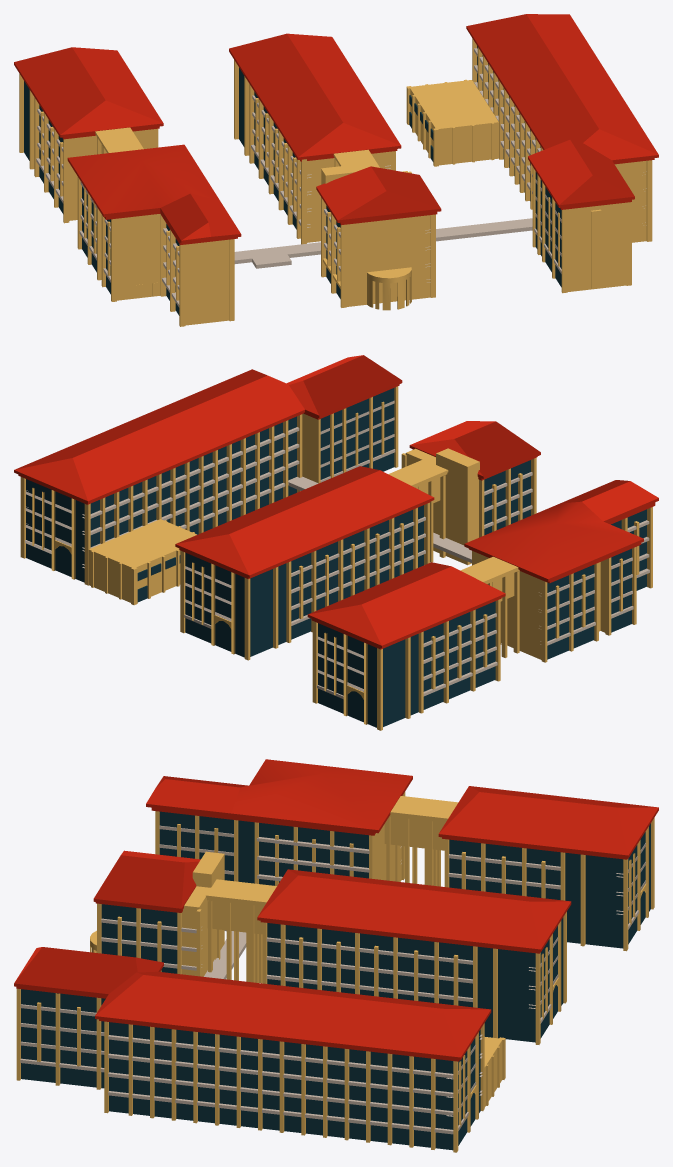
The model's file is GKL.FBX.
The picture shows the model from 3 angles, top to bottom: view 1: azimuth 30°, elevation 25°; view 2: azimuth 150°, elevation 25°; view 3: azimuth 270°, elevation 25°; orthographic projection. The views are drawn at different scales.
Visible parts, largest first — view 1: GKL01, GKL00, GKL02, GKL03; view 2: GKL01, GKL00, GKL03, GKL02; view 3: GKL01, GKL03, GKL00, GKL02.
Part boxes in pixels (left/top/right/bottom): GKL01: left=14, top=14, right=658, bottom=244; GKL00: left=19, top=38, right=652, bottom=326; GKL02: left=36, top=48, right=646, bottom=307; GKL03: left=24, top=46, right=561, bottom=315; GKL01: left=14, top=355, right=658, bottom=649; GKL00: left=20, top=386, right=652, bottom=730; GKL03: left=26, top=388, right=646, bottom=727; GKL02: left=25, top=400, right=649, bottom=699; GKL01: left=14, top=759, right=658, bottom=1061; GKL03: left=21, top=811, right=650, bottom=1150; GKL00: left=16, top=791, right=654, bottom=1152; GKL02: left=20, top=825, right=645, bottom=1134.
Bounding box in the file's own units: 1184 × 222 × 1084.
